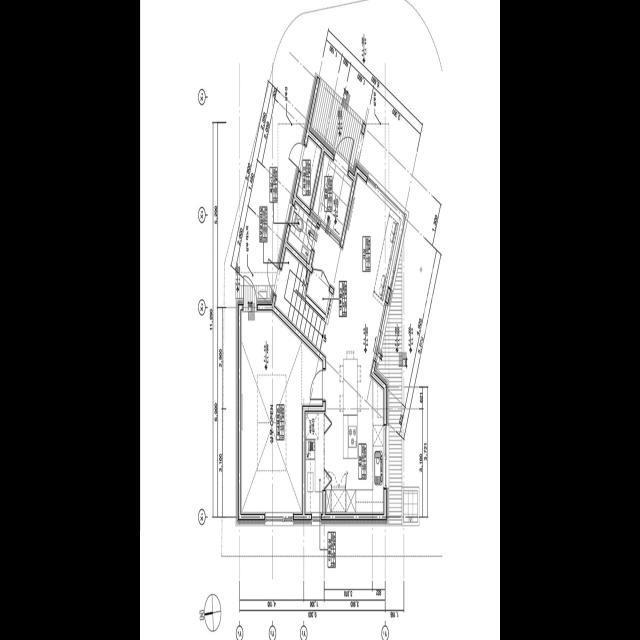background: (140, 0, 500, 640)
space_front: (312, 151, 353, 241)
space_kitchen: (325, 357, 384, 514)
space_living_room: (311, 173, 401, 358)
space_multipurpose_space: (305, 411, 324, 513)
space_other: (241, 310, 323, 513), (296, 136, 322, 209), (306, 272, 330, 314)
space_staircase: (274, 247, 326, 351)
space_toilet: (287, 201, 317, 263)
